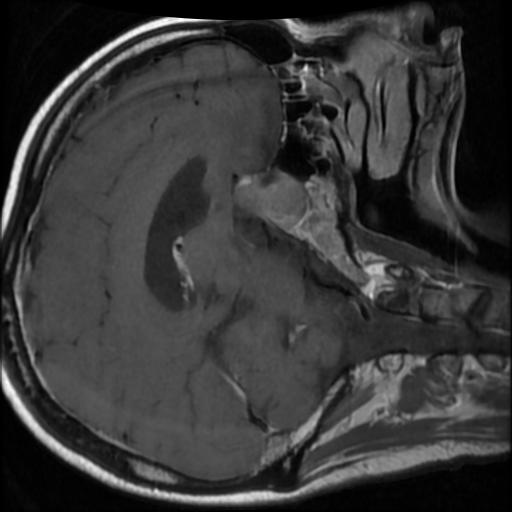pituitary tumour: (232, 170, 301, 227)
